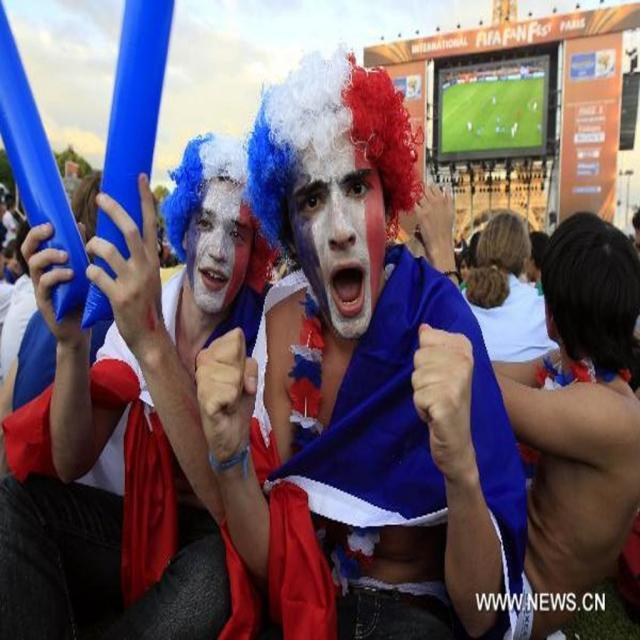nomask: (282, 160, 386, 340), (191, 182, 251, 311)
